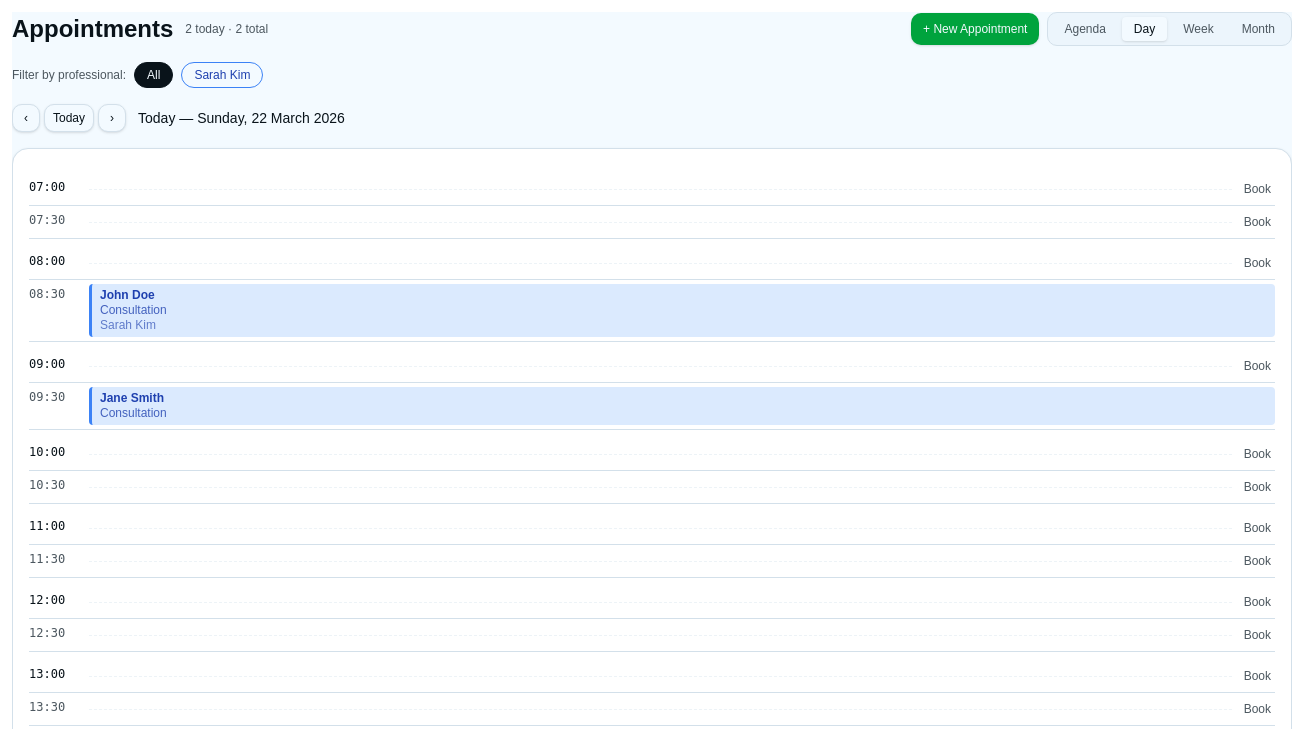
Test: AppointmentsPage (CC-61) › Toggle to week view shows week layout
Click the button "Week": (1198, 29) top-left (1171, 17), bottom-right (1226, 41)
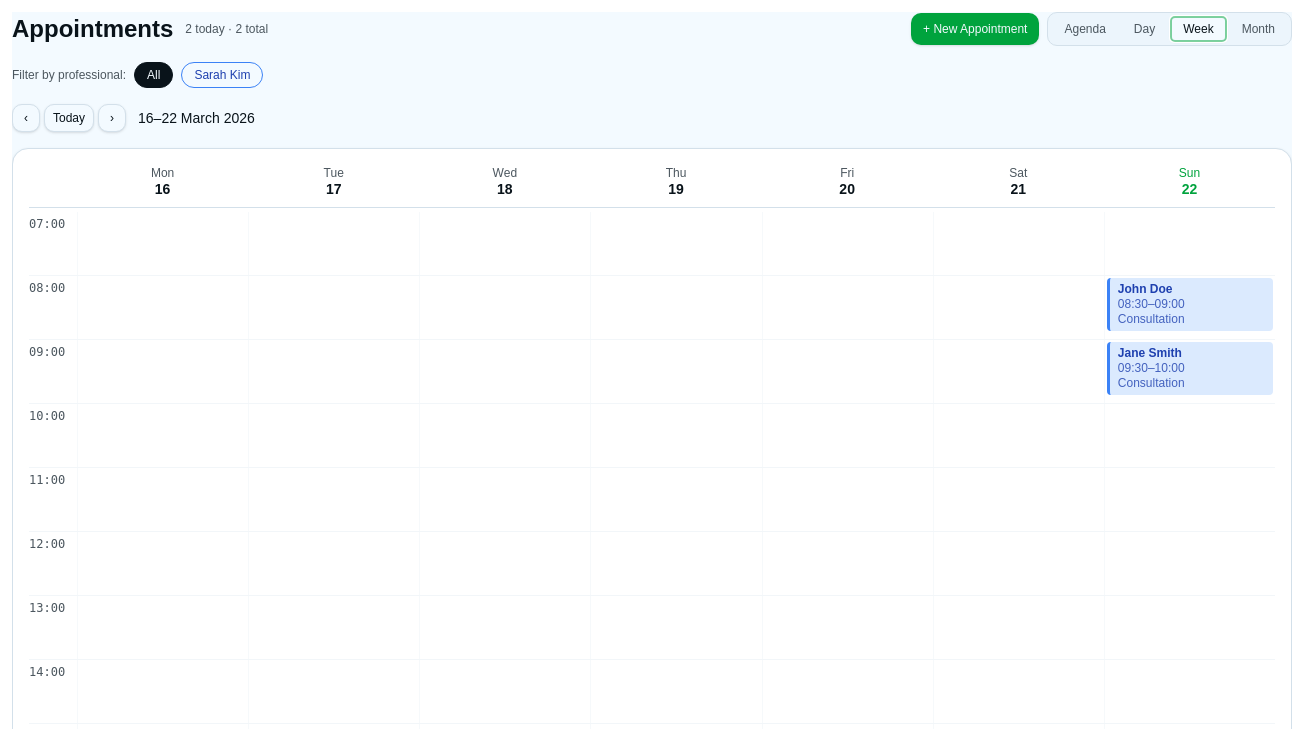
Expected: the text "Sun" is shown, top-left (1179, 166), bottom-right (1200, 180)
Expected: the text "Mon" is shown, top-left (151, 166), bottom-right (174, 180)
Expected: the text "Tue" is shown, top-left (324, 166), bottom-right (344, 180)
